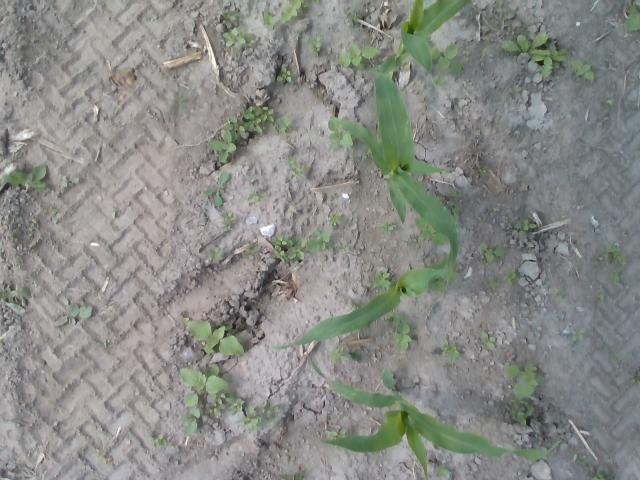Maize: (307, 349, 560, 480), (342, 62, 460, 283), (272, 242, 460, 350), (368, 0, 473, 87)
Weeds: (207, 104, 291, 162), (180, 364, 246, 437), (500, 30, 568, 78), (180, 314, 244, 356), (504, 363, 544, 400), (263, 0, 309, 30), (236, 400, 282, 430), (386, 311, 418, 353), (406, 214, 446, 246), (2, 164, 46, 192), (337, 44, 378, 69), (430, 44, 462, 74), (435, 189, 464, 222), (328, 116, 356, 150), (0, 284, 31, 314), (54, 303, 92, 327), (204, 171, 229, 207), (270, 237, 306, 261), (222, 26, 255, 50), (592, 244, 629, 265), (508, 398, 534, 426), (329, 344, 364, 364), (306, 230, 334, 252), (623, 0, 640, 32), (479, 243, 508, 261), (570, 59, 594, 80), (439, 338, 460, 362), (514, 218, 538, 238), (326, 428, 348, 448), (370, 270, 391, 290), (240, 241, 262, 260), (288, 156, 305, 180), (590, 467, 619, 480), (276, 67, 297, 84), (306, 36, 322, 56), (247, 186, 267, 202), (352, 148, 373, 162), (482, 330, 496, 350), (504, 267, 520, 284), (428, 278, 447, 292), (148, 433, 168, 446), (221, 213, 235, 230), (221, 10, 238, 24), (435, 465, 452, 478), (61, 177, 81, 188), (378, 220, 396, 232), (486, 278, 500, 292), (328, 212, 342, 226), (280, 472, 304, 480), (629, 369, 640, 386), (208, 247, 222, 260), (572, 454, 587, 466), (608, 271, 624, 282), (170, 96, 186, 107), (432, 74, 445, 87), (572, 328, 586, 340), (347, 9, 359, 21), (610, 348, 622, 359), (506, 86, 522, 94), (95, 449, 104, 462), (605, 98, 615, 107), (42, 208, 56, 214), (479, 166, 487, 176), (338, 244, 350, 250), (600, 292, 606, 302), (556, 293, 563, 300), (311, 0, 320, 5), (496, 0, 504, 4)
